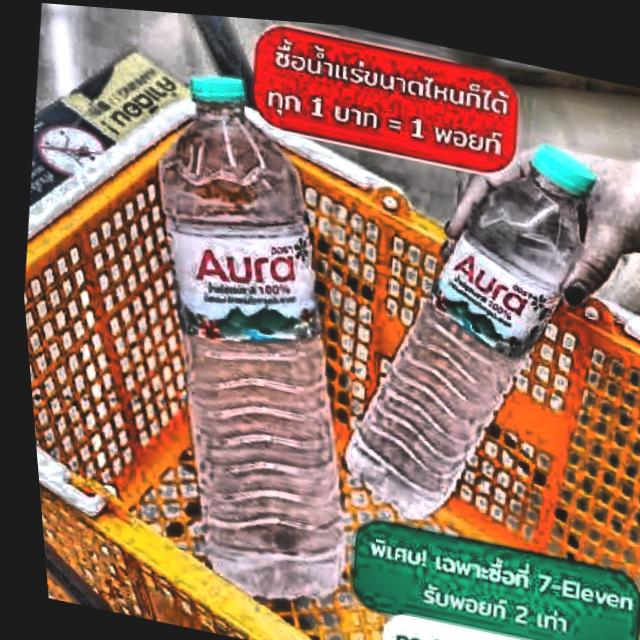Bottles: (55, 30, 421, 633), (303, 93, 627, 557)
